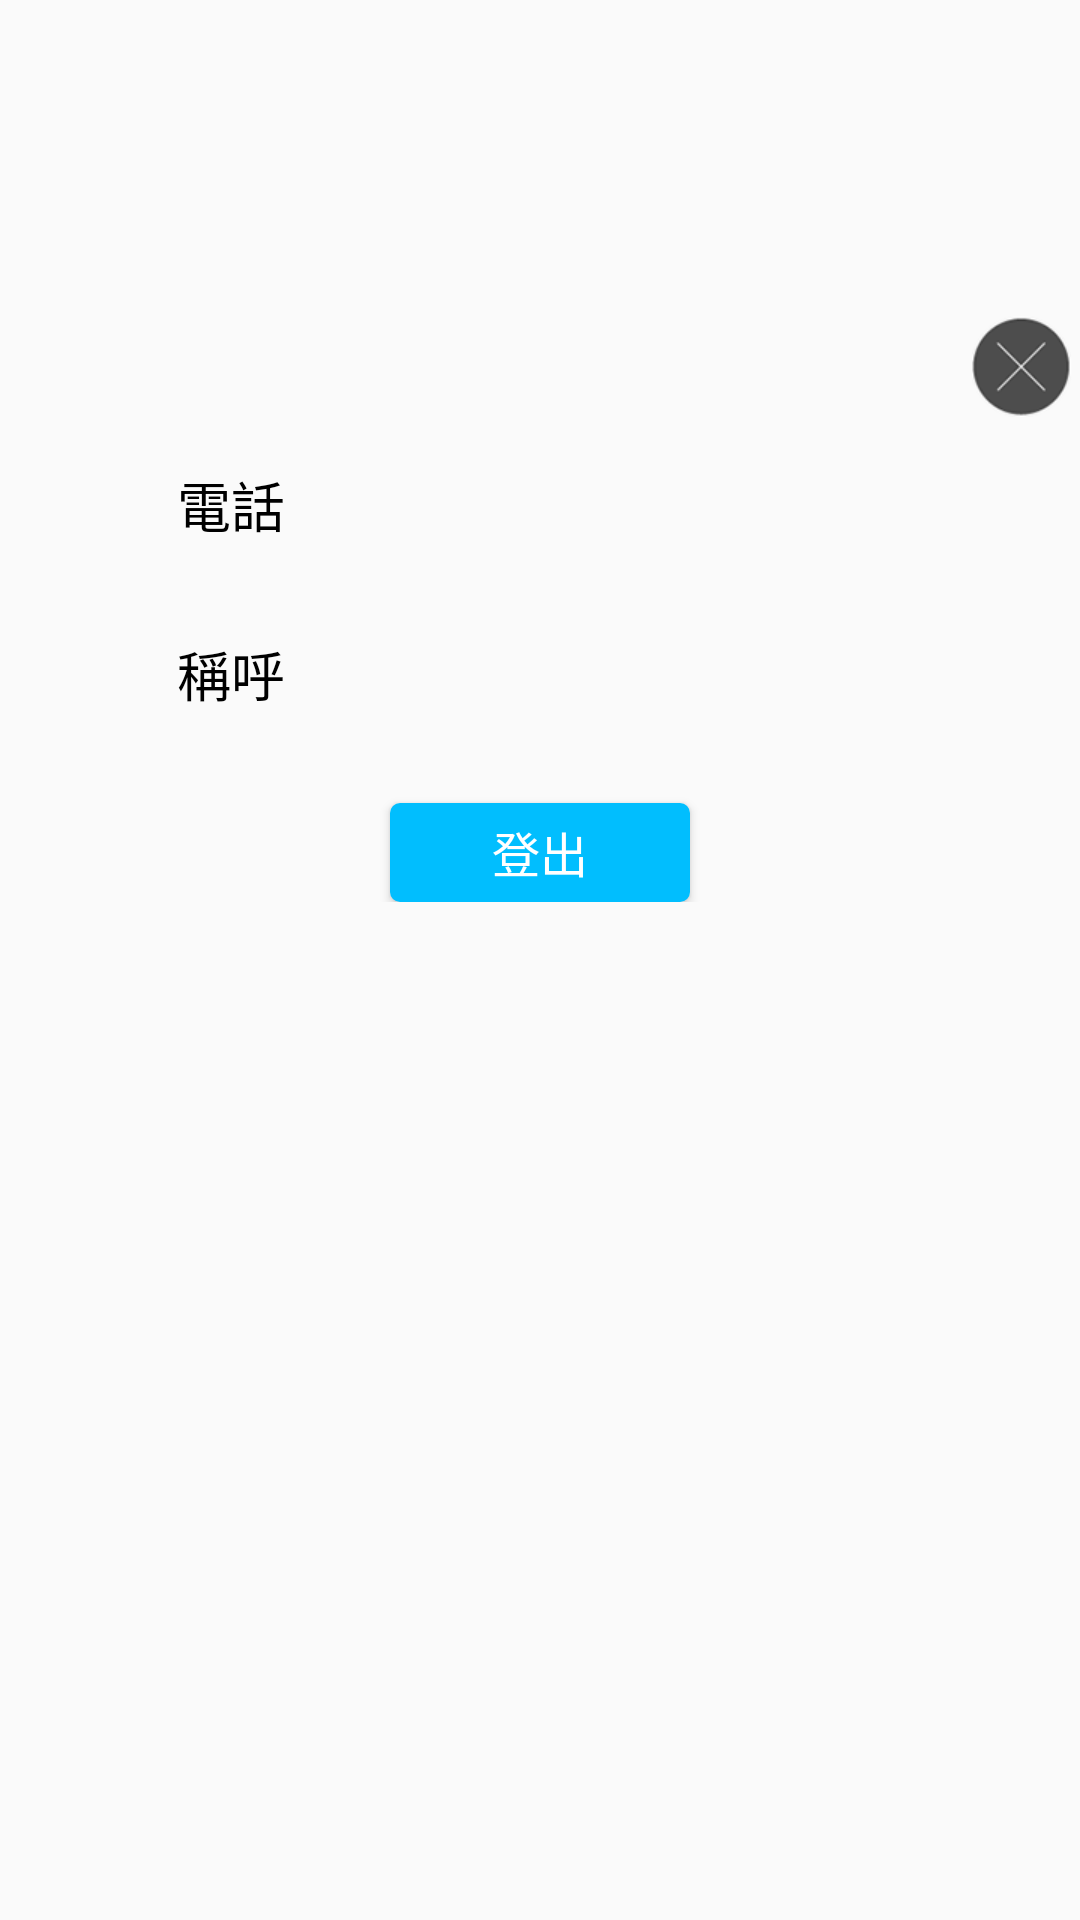

Where icons sit on this 1080 x 1920 app screen, as (x1, y1, x2, y2):
close: (972, 318, 1070, 416)
